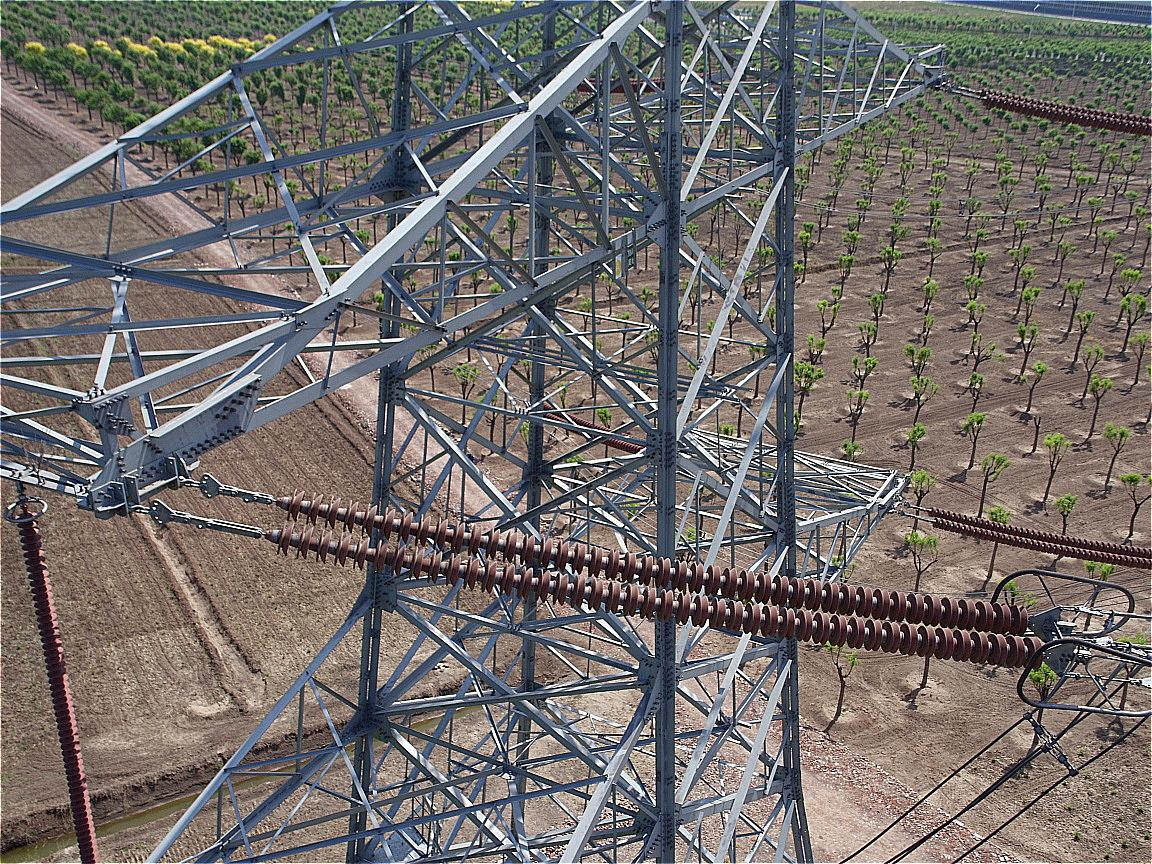insultor1: (930, 507, 1152, 571), (982, 86, 1146, 136)
insultor2: (276, 488, 1043, 671)
